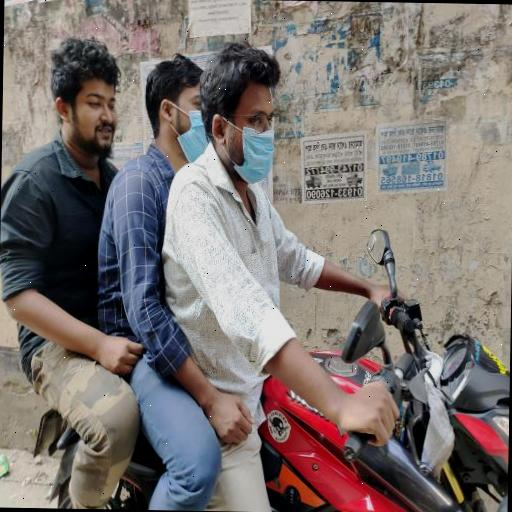no helmet: (198, 40, 311, 210)
triple riding: (0, 30, 512, 512)
